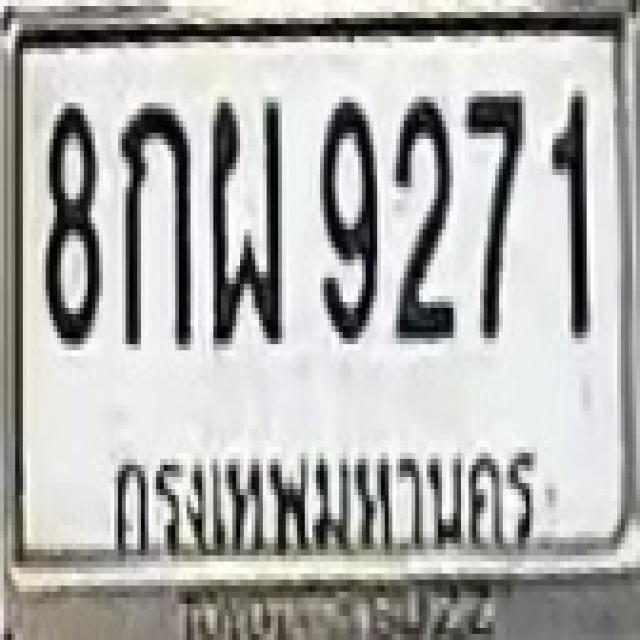1: (550, 85, 585, 338)
2: (391, 94, 452, 335)
7: (465, 91, 522, 338)
8: (42, 97, 99, 338)
9: (316, 97, 377, 338)
A01: (118, 97, 191, 344)
A28: (208, 94, 284, 341)
BKK: (104, 447, 548, 563)
